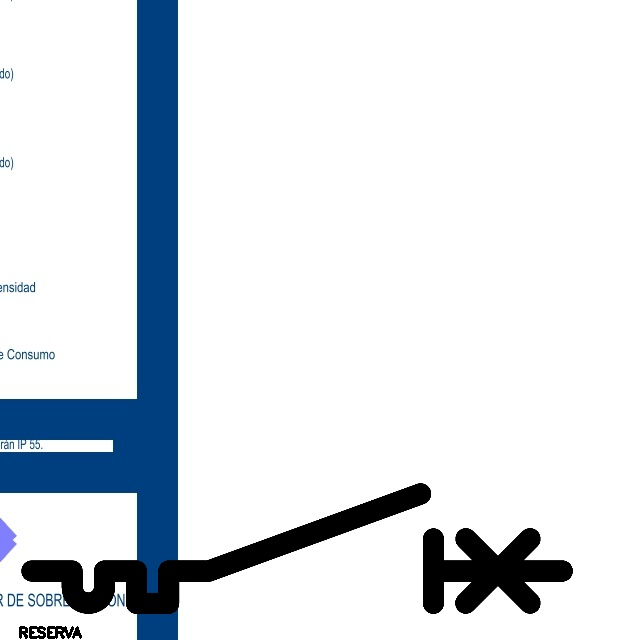interruptor_termomagnetico: (18, 480, 576, 617)
